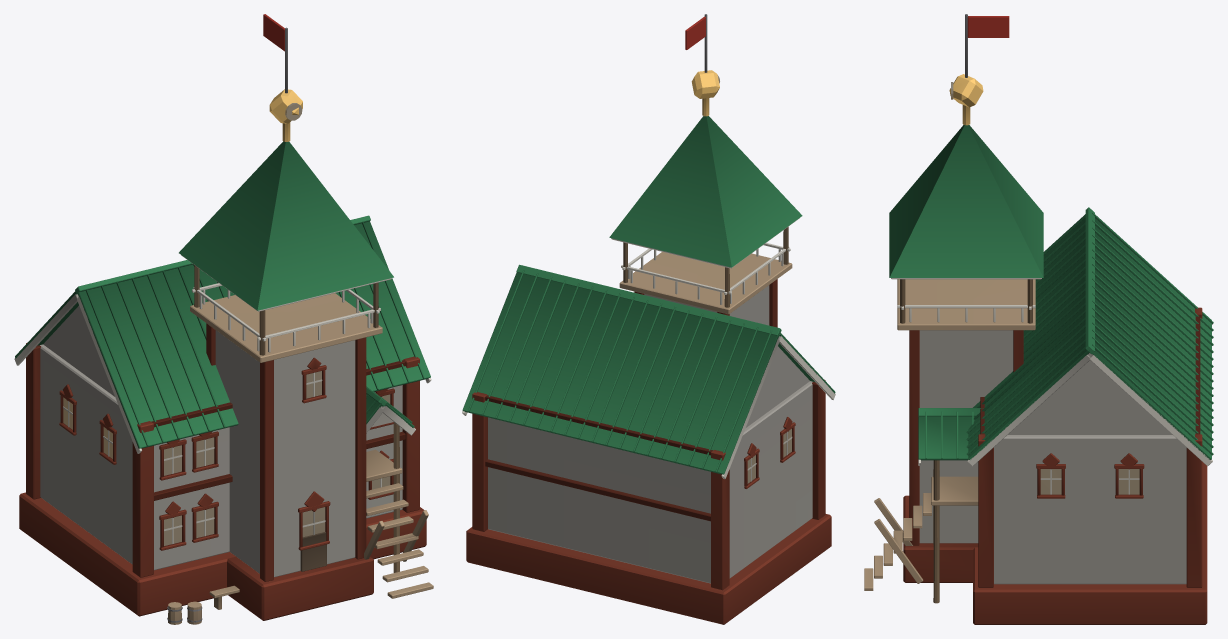
The model's file is bld_townhall_e2.glb.
3 renders of one model, left to right at view 1: azimuth 30°, elevation 25°; view 2: azimuth 150°, elevation 25°; view 3: azimuth 270°, elevation 25°, orthographic. The views are drawn at different scales.
Visible parts, largest first — view 1: townhall; view 2: townhall; view 3: townhall.
Part boxes in pixels (box(x1,y1,x2,y2)): townhall: box(14, 14, 433, 624); townhall: box(462, 14, 835, 624); townhall: box(864, 14, 1213, 624).
Bounding box in the file's own units: 2.52 × 4.6 × 2.68.
